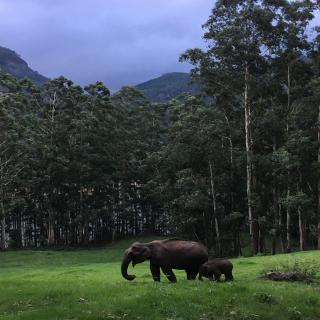Elephant: (114, 233, 212, 286), (197, 257, 240, 284)
